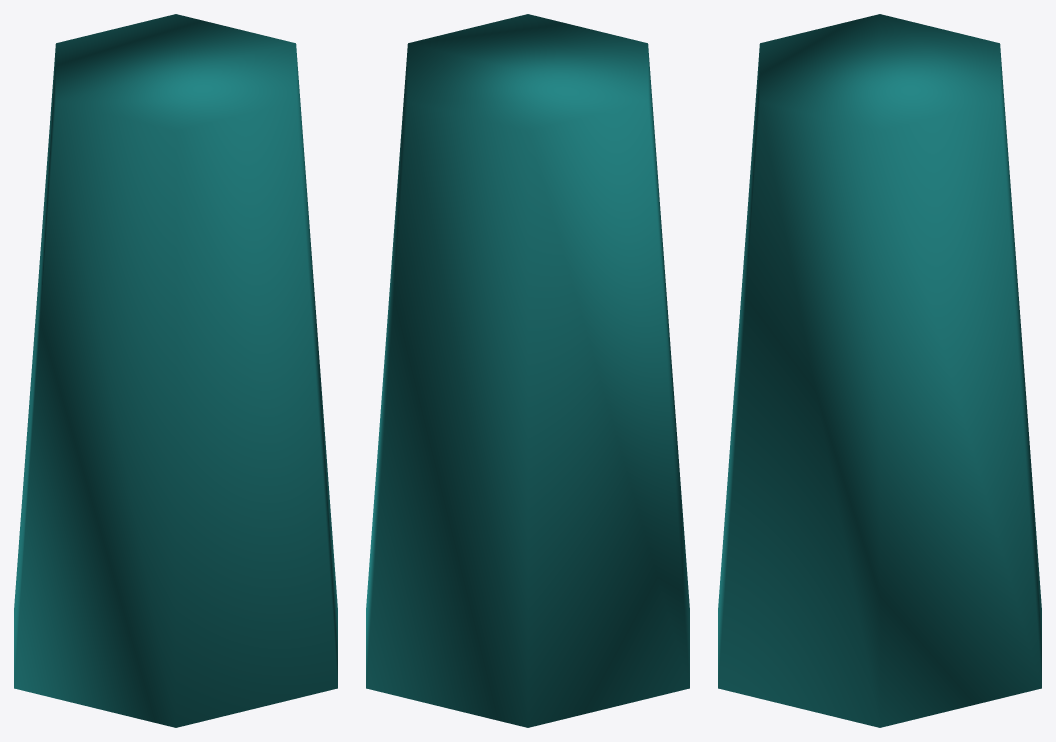
Rendered from chess_piece_rook_collider.fbx.
3 renders of one model, left to right at view 1: azimuth 30°, elevation 25°; view 2: azimuth 150°, elevation 25°; view 3: azimuth 270°, elevation 25°, orthographic.
Visible parts, largest first — view 1: chess_piece_rook_collider; view 2: chess_piece_rook_collider; view 3: chess_piece_rook_collider.
Boxes of the visible parts, bbox=[...] form: chess_piece_rook_collider: bbox=[14, 14, 337, 727]; chess_piece_rook_collider: bbox=[366, 14, 689, 727]; chess_piece_rook_collider: bbox=[718, 14, 1041, 727].
Bounding box in the file's own units: 3.5 × 5.94 × 3.03.
